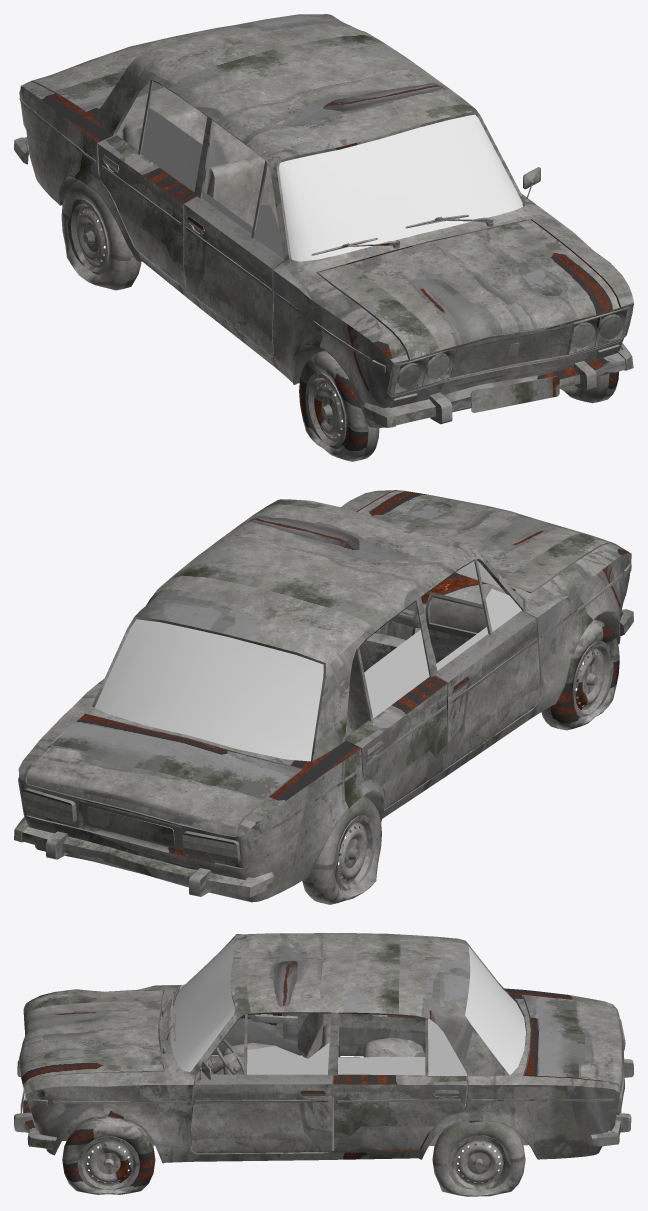
Rendered from VazWithOpenedTrunk.fbx.
3 renders of one model, top to bottom at view 1: azimuth 30°, elevation 25°; view 2: azimuth 150°, elevation 25°; view 3: azimuth 270°, elevation 25°, orthographic. The views are drawn at different scales.
Parts seen in each view (by area): view 1: Object.002_low, Object.002_low.001; view 2: Object.002_low, Object.002_low.001; view 3: Object.002_low, Object.002_low.001.
Boxes of the visible parts, box(x1,y1,x2,y2) form: Object.002_low: box(14, 14, 633, 461); Object.002_low.001: box(31, 25, 230, 111); Object.002_low: box(14, 490, 633, 904); Object.002_low.001: box(26, 714, 301, 836); Object.002_low: box(14, 933, 633, 1196); Object.002_low.001: box(523, 995, 623, 1091).
Bounding box in the file's own units: 490 × 377 × 1166.
